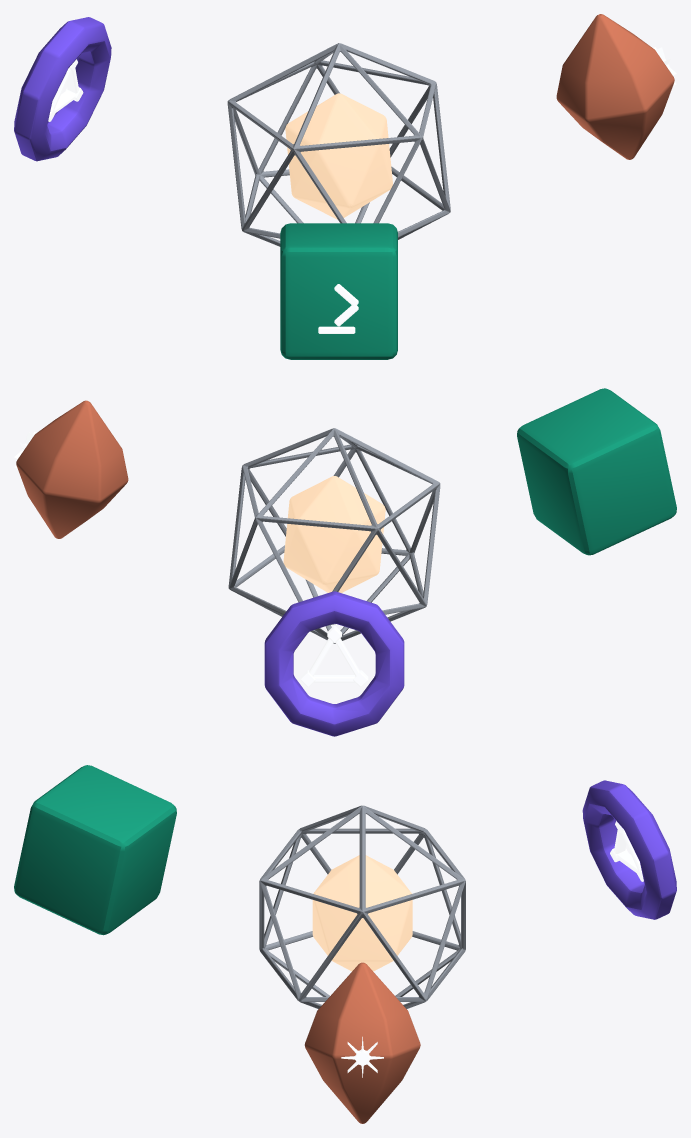
File: hyprdesk.glb
3 views of the same model, one above another, from view 1: azimuth 30°, elevation 25°; view 2: azimuth 150°, elevation 25°; view 3: azimuth 270°, elevation 25° (orthographic). The views are drawn at different scales.
Visible parts, largest first — view 1: EngineCodex, RouterCage, EngineClaude, Router, EngineOpenCode, GlyphOpenCode, GlyphCodex; view 2: EngineCodex, RouterCage, EngineOpenCode, EngineClaude, Router, GlyphOpenCode; view 3: EngineCodex, RouterCage, EngineClaude, EngineOpenCode, Router, GlyphOpenCode.
Part boxes in pixels (x1=…): EngineCodex: x1=280, y1=223, x2=397, y2=359; RouterCage: x1=227, y1=43, x2=450, y2=246; EngineClaude: x1=556, y1=14, x2=674, y2=159; Router: x1=285, y1=93, x2=392, y2=219; EngineOpenCode: x1=14, y1=17, x2=111, y2=161; GlyphOpenCode: x1=48, y1=59, x2=83, y2=121; GlyphCodex: x1=318, y1=284, x2=358, y2=333; EngineCodex: x1=517, y1=388, x2=676, y2=555; RouterCage: x1=228, y1=428, x2=440, y2=643; EngineOpenCode: x1=264, y1=591, x2=404, y2=736; EngineClaude: x1=16, y1=400, x2=128, y2=538; Router: x1=283, y1=476, x2=385, y2=592; GlyphOpenCode: x1=301, y1=626, x2=368, y2=687; EngineCodex: x1=14, y1=765, x2=176, y2=935; RouterCage: x1=259, y1=805, x2=465, y2=1008; EngineClaude: x1=304, y1=962, x2=420, y2=1123; EngineOpenCode: x1=582, y1=780, x2=676, y2=919; Router: x1=312, y1=855, x2=412, y2=971; GlyphOpenCode: x1=610, y1=821, x2=643, y2=881.
Size of the model in its own units: 5.07 by 2.04 by 5.59.
